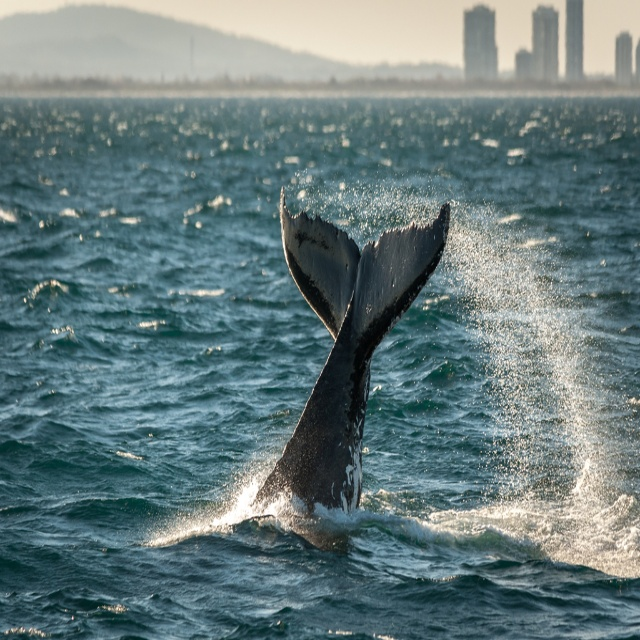Whale: (249, 186, 450, 520)
